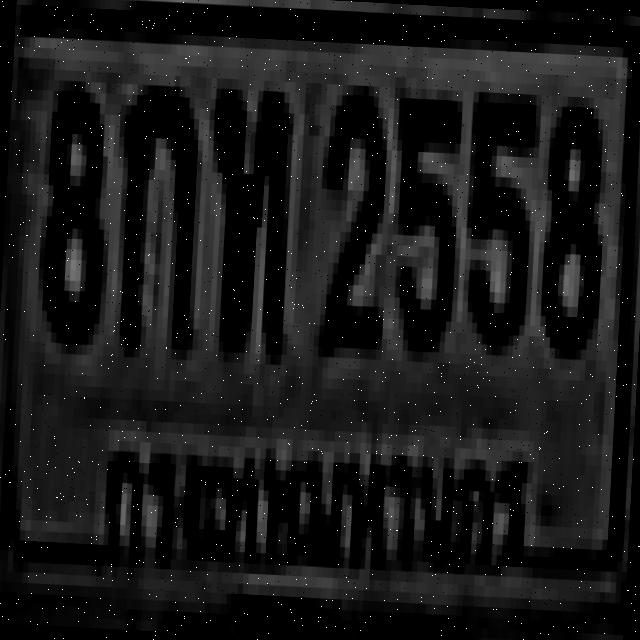10GorGai: (108, 73, 202, 350)
2: (313, 79, 390, 344)
32ThorThaHan: (198, 78, 290, 344)
5: (458, 81, 535, 346), (382, 88, 458, 342)
8: (36, 70, 107, 334), (534, 96, 605, 350)
Bangkok: (86, 410, 542, 589)
